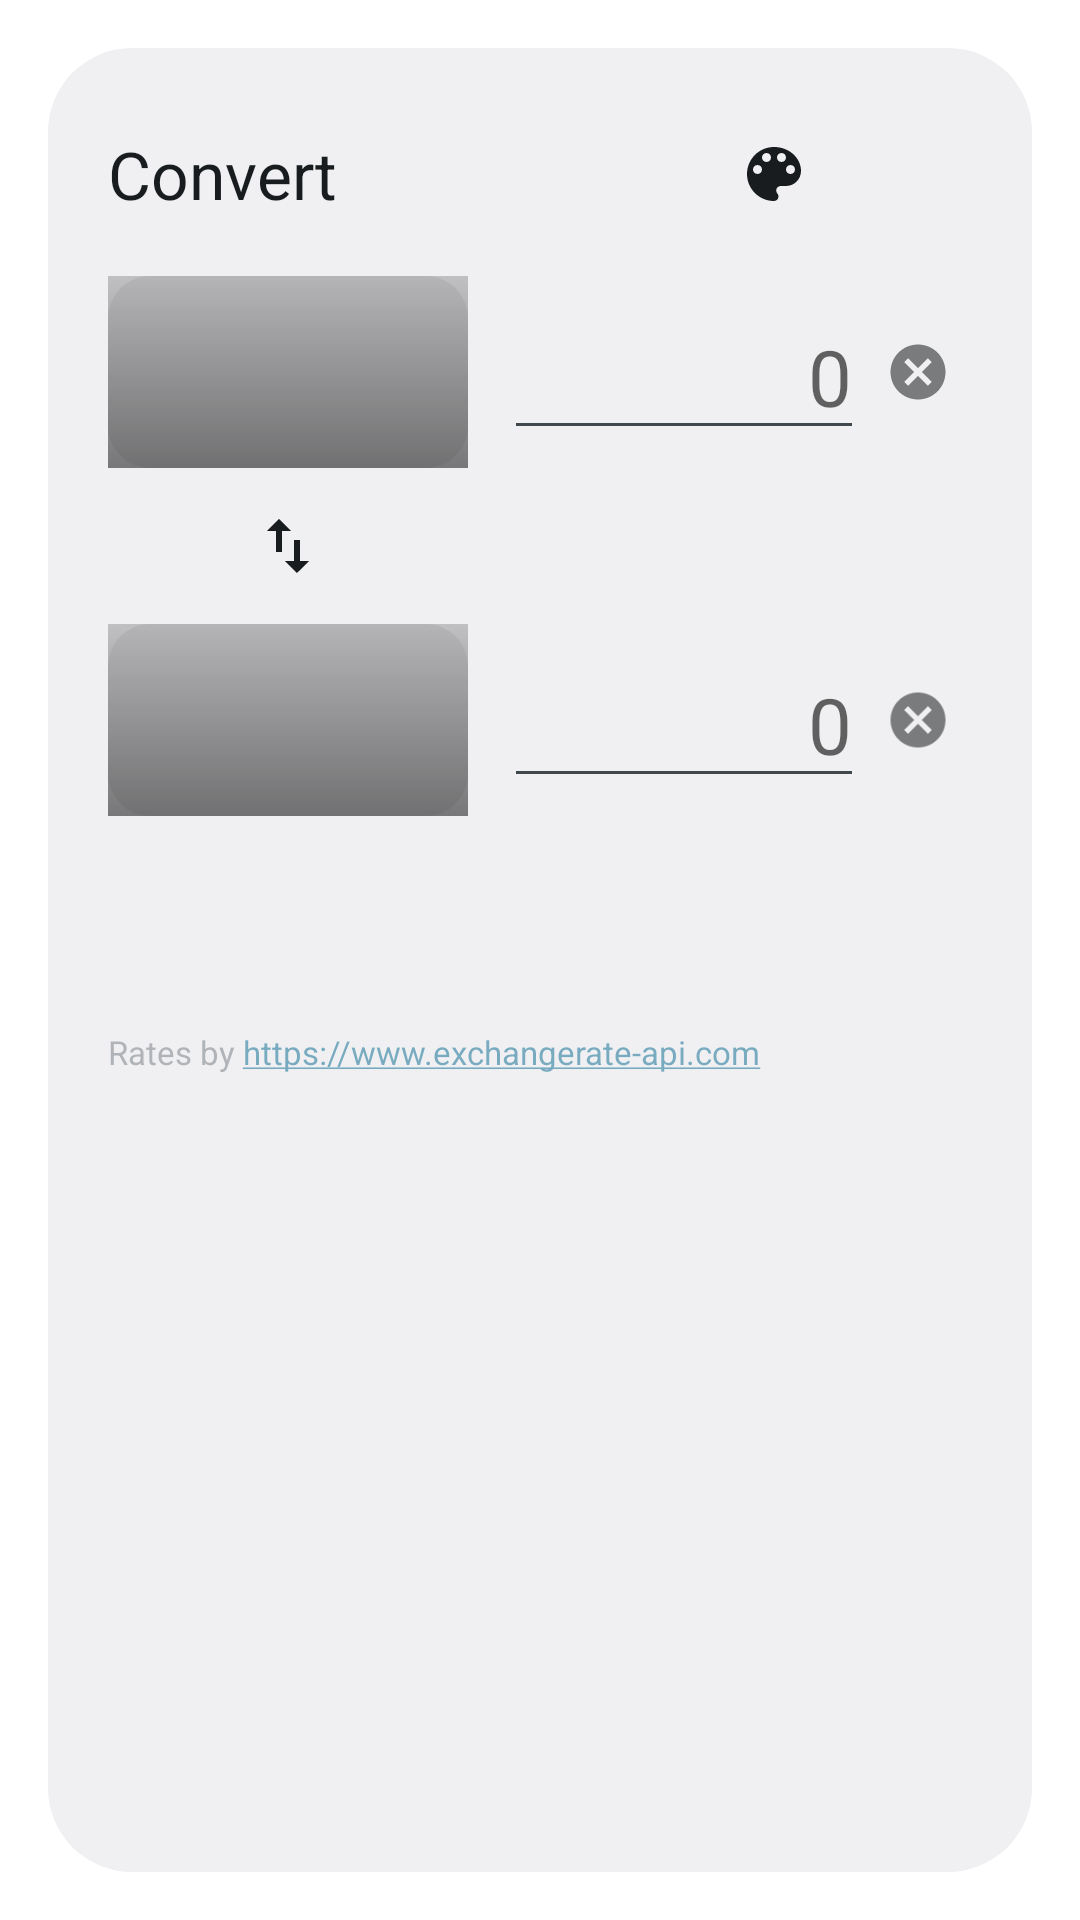

Where to tap for icons on this 1080w x 1920h app screen, as (x,y):
Widget theme: (769,169)
